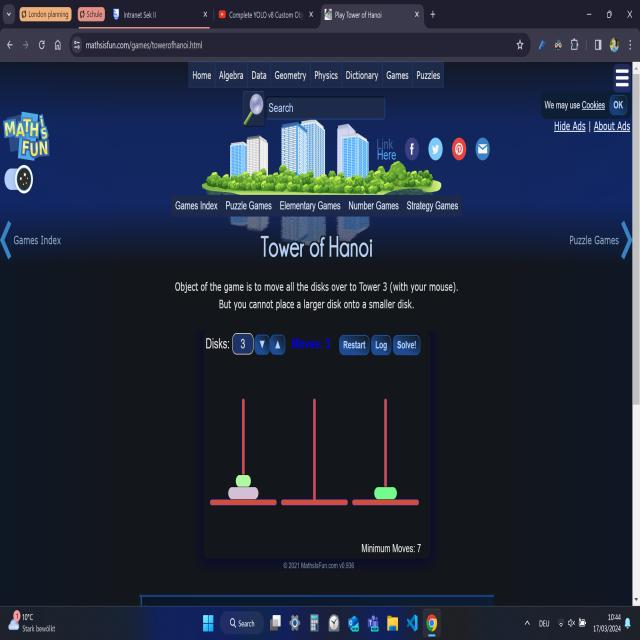disk1: (236, 475, 251, 487)
disk2: (374, 487, 397, 499)
disk3: (228, 487, 258, 500)
